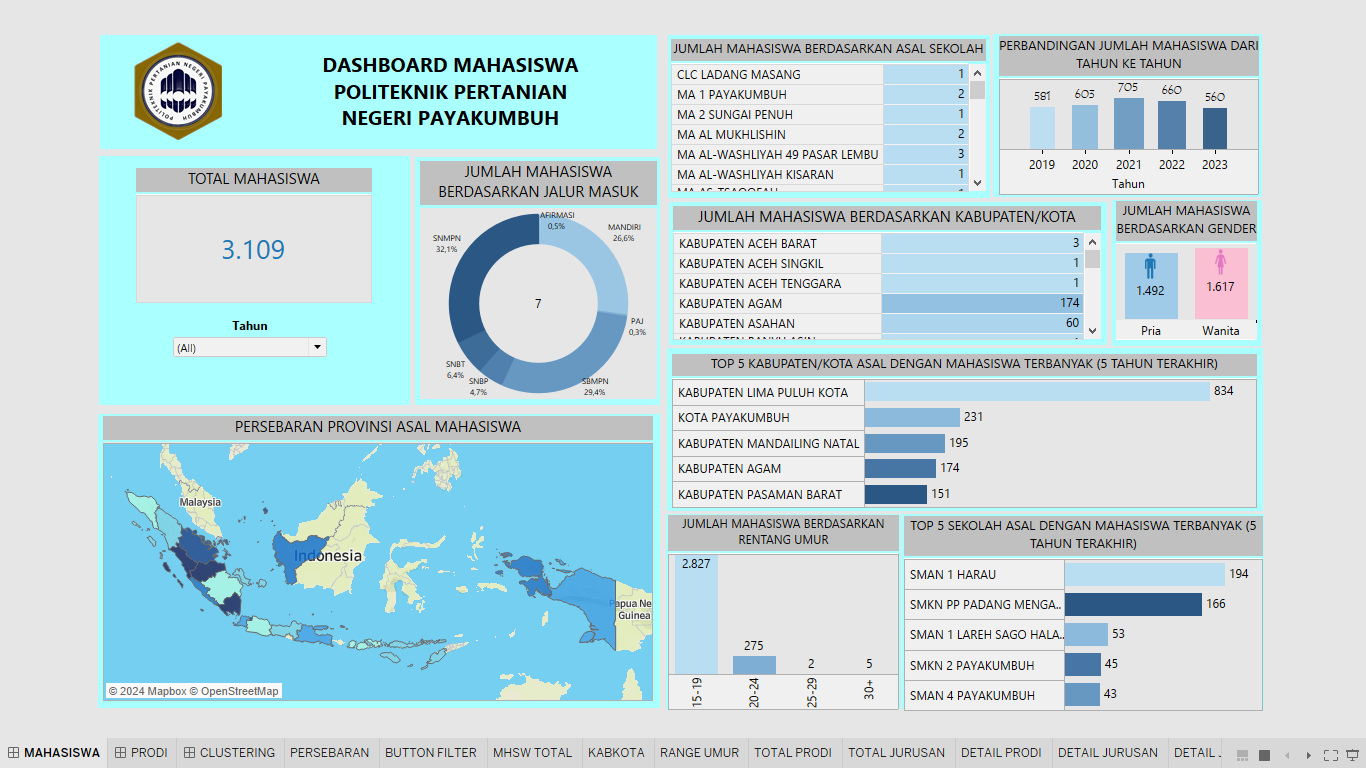

What the dashboard file says about the page in this screenshot:
{"tool":"tableau","page":{"name":"MAHASISWA","canvas":[1200,700],"ordinal":1},"visuals":[{"type":"blank","box":[910,15,269,163]},{"type":"blank","box":[17,16,557,114]},{"type":"blank","box":[585,16,322,163]},{"type":"worksheet","title":"JML MHSW PER THN","mark":"Bar","rows":["dim_mhsw_1895C92D3C69413090F76293848FB05D"],"cols":["tahun"],"box":[916,17,260,159]},{"type":"text","box":[168,18.4,399,107.6]},{"type":"worksheet","title":"SEKOLAH ASAL","mark":"Square","rows":["sekolahasal"],"box":[588,20,315,153]},{"type":"image","param":"C:/Users/HP/Downloads/01.png","box":[26,22.8,138,98]},{"type":"blank","box":[16,137,311,249]},{"type":"blank","box":[332,138,245,248]},{"type":"worksheet","title":"DETAIL JALURMASUK","mark":"Pie","rows":["Calculation_531424756810428421","Calculation_531424756810473479"],"box":[337,142,237,238]},{"type":"worksheet","title":"MHSW TOTAL","mark":"Automatic","box":[53,149,236,135]},{"type":"blank","box":[1029,181,150,146]},{"type":"worksheet","title":"GENDER","mark":"Bar","rows":["dim_mhsw_1895C92D3C69413090F76293848FB05D","dim_mhsw_1895C92D3C69413090F76293848FB05D"],"cols":["gender"],"box":[1033,182,141,139]},{"type":"blank","box":[586,183,438,143]},{"type":"worksheet","title":"DETAIL MHSW","mark":"Square","rows":["kabkota"],"box":[590,187,428,134]},{"type":"filter","title":"MHSW TOTAL","param":"[federated.152qc3819ipgjl1503bot03x0qiw].[none:tahun:ok]","box":[87,298,160,50]},{"type":"blank","box":[584,329,596,163]},{"type":"worksheet","title":"KABKOTA","mark":"Automatic","rows":["kabkota"],"cols":["sk_tahun"],"box":[589,335,585,154]},{"type":"blank","box":[15,395,562,294]},{"type":"worksheet","title":"PERSEBARAN","mark":"Multipolygon","box":[20,397,550,285]},{"type":"blank","box":[583,495,235,195]},{"type":"blank","box":[819,495,362,195]},{"type":"worksheet","title":"RANGE UMUR","mark":"Bar","rows":["dim_mhsw_1895C92D3C69413090F76293848FB05D"],"cols":["range_umur"],"box":[585,496,231,195]},{"type":"worksheet","title":"SEKOLAH ASAL (2)","mark":"Automatic","rows":["sekolahasal"],"cols":["fact_maba_21E5B4D225D3407183BB4035FF25C909"],"box":[821,497,359,195]}]}

Visuals, with their boxes on the page's 1200x700 design canvas (x1, y1, x2, y2). These are canvas units, not pixel positions in the 1366x768 screenshot, which may show the page scaled, cropped or inside an application window:
blank: locate(910, 15, 1179, 178)
blank: locate(17, 16, 574, 130)
blank: locate(585, 16, 907, 179)
"JML MHSW PER THN" worksheet (Bar marks): locate(916, 17, 1176, 176)
text: locate(168, 18, 567, 126)
"SEKOLAH ASAL" worksheet (Square marks): locate(588, 20, 903, 173)
image: locate(26, 23, 164, 121)
blank: locate(16, 137, 327, 386)
blank: locate(332, 138, 577, 386)
"DETAIL JALURMASUK" worksheet (Pie marks): locate(337, 142, 574, 380)
"MHSW TOTAL" worksheet: locate(53, 149, 289, 284)
blank: locate(1029, 181, 1179, 327)
"GENDER" worksheet (Bar marks): locate(1033, 182, 1174, 321)
blank: locate(586, 183, 1024, 326)
"DETAIL MHSW" worksheet (Square marks): locate(590, 187, 1018, 321)
"MHSW TOTAL" filter: locate(87, 298, 247, 348)
blank: locate(584, 329, 1180, 492)
"KABKOTA" worksheet: locate(589, 335, 1174, 489)
blank: locate(15, 395, 577, 689)
"PERSEBARAN" worksheet (Multipolygon marks): locate(20, 397, 570, 682)
blank: locate(583, 495, 818, 690)
blank: locate(819, 495, 1181, 690)
"RANGE UMUR" worksheet (Bar marks): locate(585, 496, 816, 691)
"SEKOLAH ASAL (2)" worksheet: locate(821, 497, 1180, 692)
